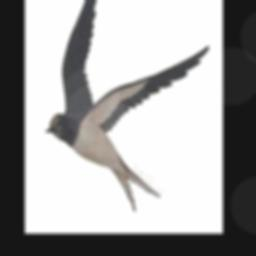Swallow: (44, 0, 210, 210)
